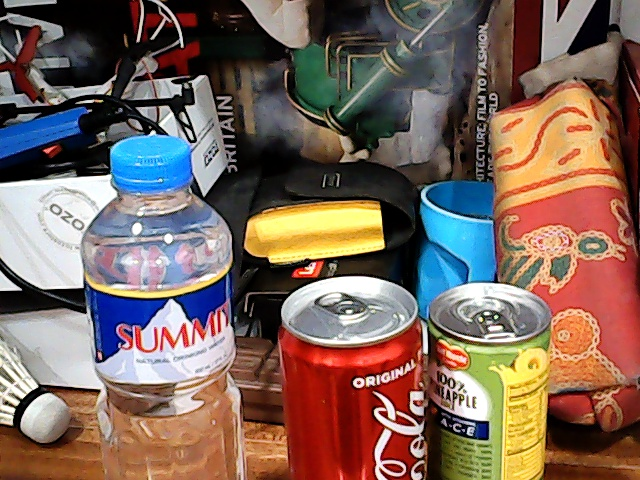Cola: (267, 267, 432, 480)
Pine Juice: (429, 274, 553, 480)
Summit Water: (76, 130, 250, 480)
